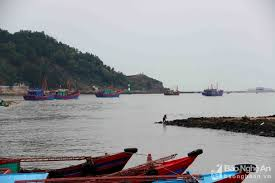tau_dansu: (47, 82, 82, 100), (93, 87, 123, 100), (200, 84, 224, 96), (163, 85, 181, 95)
